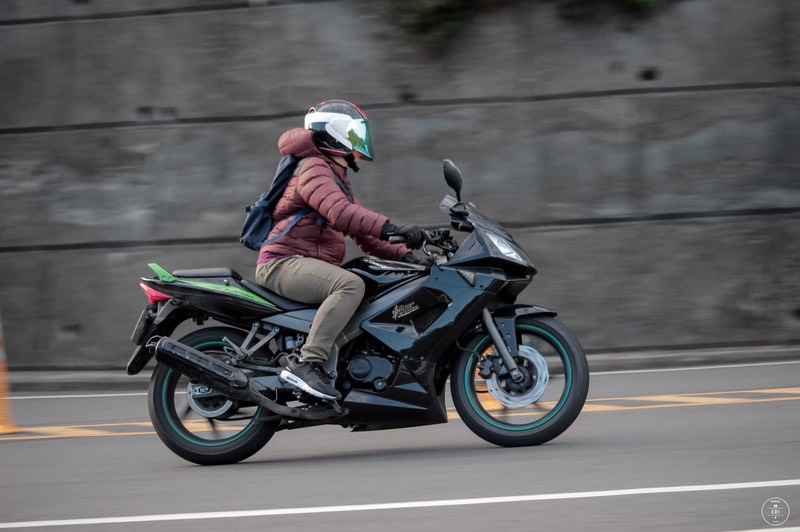helmet: (300, 99, 376, 165)
